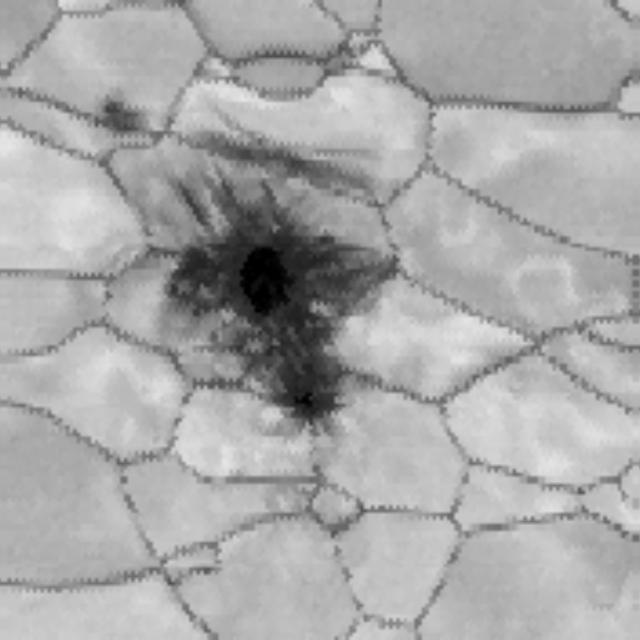good_void: (145, 164, 407, 441), (188, 106, 397, 208), (89, 89, 163, 142), (567, 477, 597, 503), (301, 458, 333, 480)
